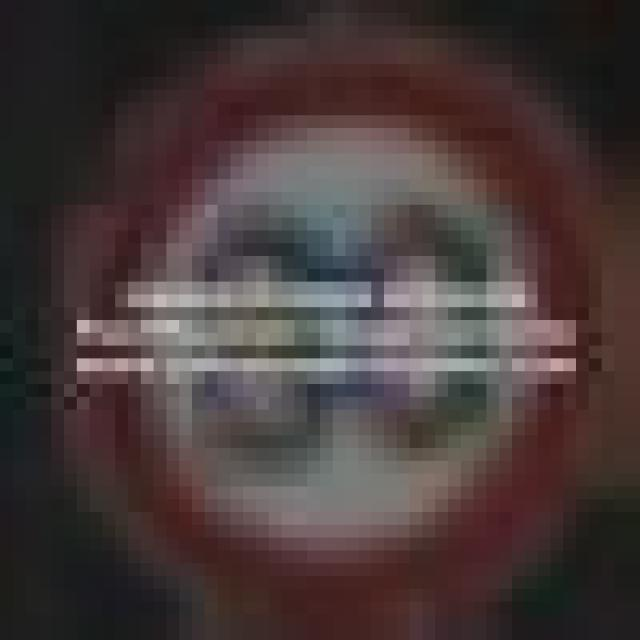speed_limit_50: (51, 39, 589, 602)
